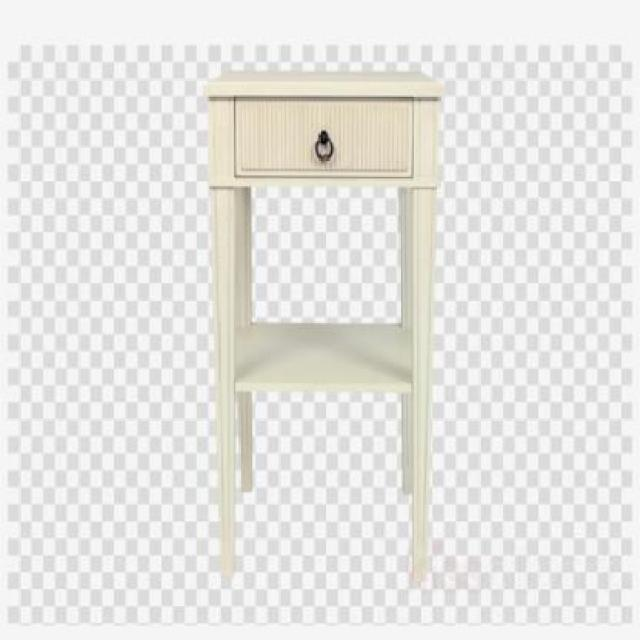table: (202, 68, 443, 603)
